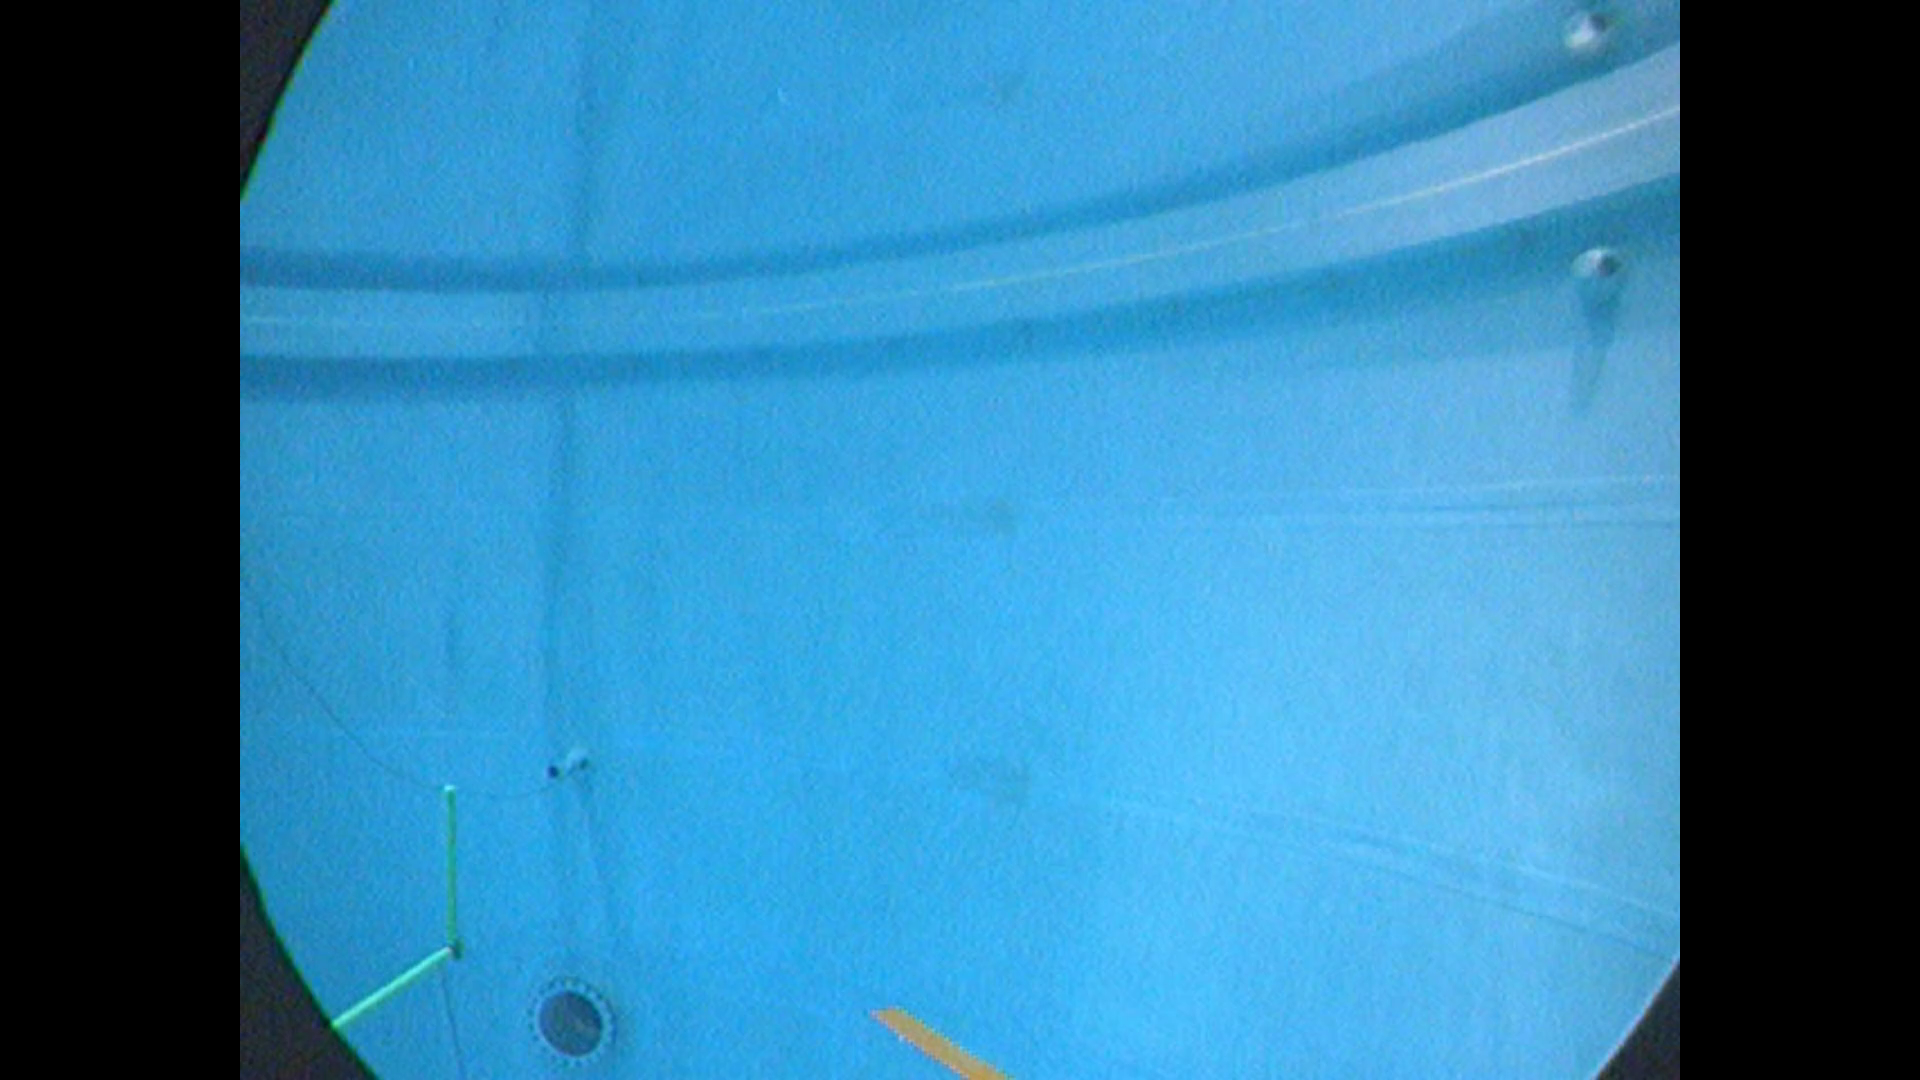gate: (328, 771, 467, 1031)
